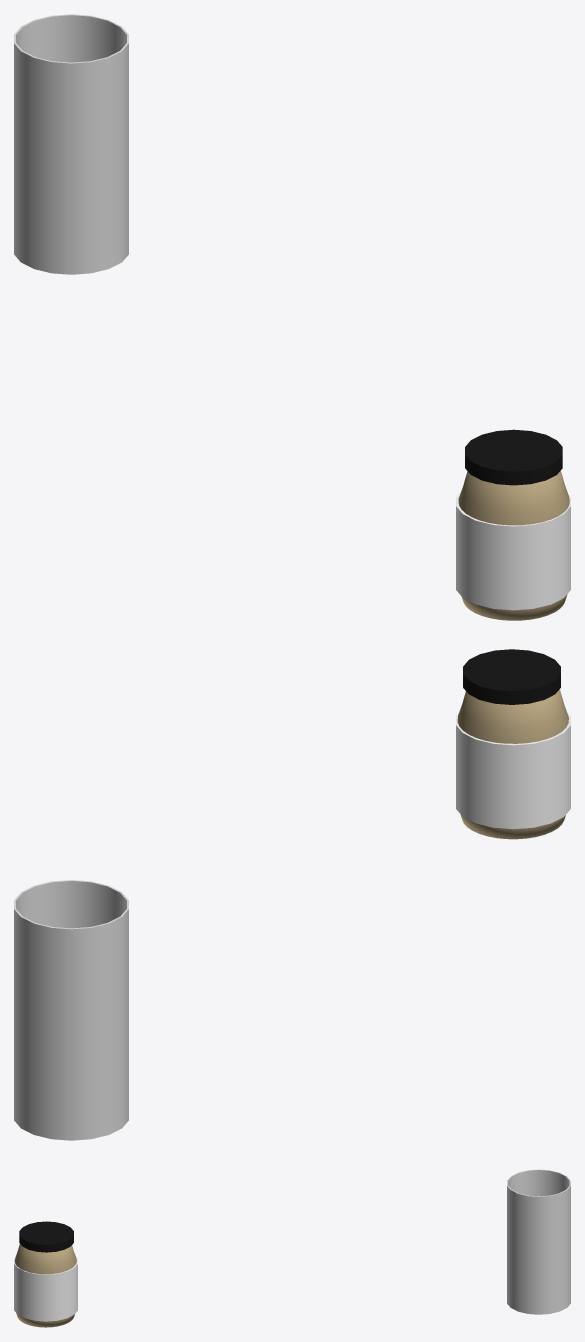
File: Horse Tranqs.fbx
3 views of the same model, one above another, from view 1: azimuth 30°, elevation 25°; view 2: azimuth 150°, elevation 25°; view 3: azimuth 270°, elevation 25° (orthographic). The views are drawn at different scales.
Visible parts, largest first — view 1: Cylinder054, Cylinder029, Sphere015, Cylinder028; view 2: Cylinder054, Cylinder029, Sphere015, Cylinder028; view 3: Cylinder054, Cylinder029, Sphere015, Cylinder028.
Part boxes in pixels (x1,y1,x2,y2): Cylinder054: (14, 14, 128, 274); Cylinder029: (456, 492, 570, 610); Sphere015: (458, 471, 569, 620); Cylinder028: (465, 429, 562, 485); Cylinder054: (14, 880, 128, 1140); Cylinder029: (456, 712, 570, 829); Sphere015: (457, 689, 568, 839); Cylinder028: (463, 649, 560, 704); Cylinder054: (507, 1169, 570, 1314); Cylinder029: (14, 1256, 77, 1321); Sphere015: (14, 1244, 76, 1327); Cylinder028: (19, 1221, 73, 1252).
Size of the model in its own units: 24.87 by 55.61 by 212.
